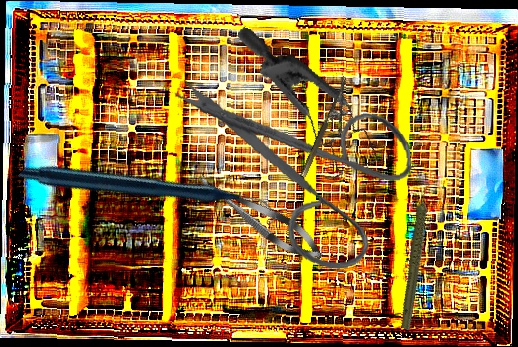Handpiece: (16, 64, 274, 321), (371, 181, 465, 332)
Iris Scissors: (171, 51, 423, 287)
Micro Scissor: (190, 164, 330, 270)
Needle Holder: (298, 76, 364, 184)
Speculum: (204, 26, 405, 192)
